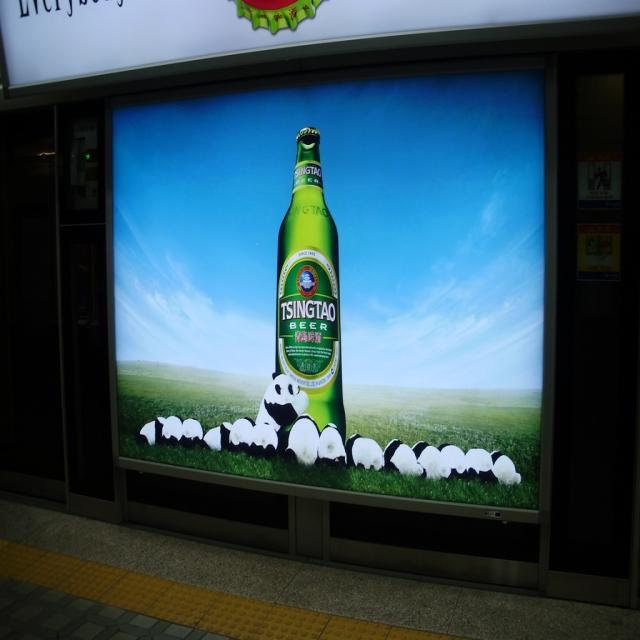tsingtao: (276, 246, 342, 394)
